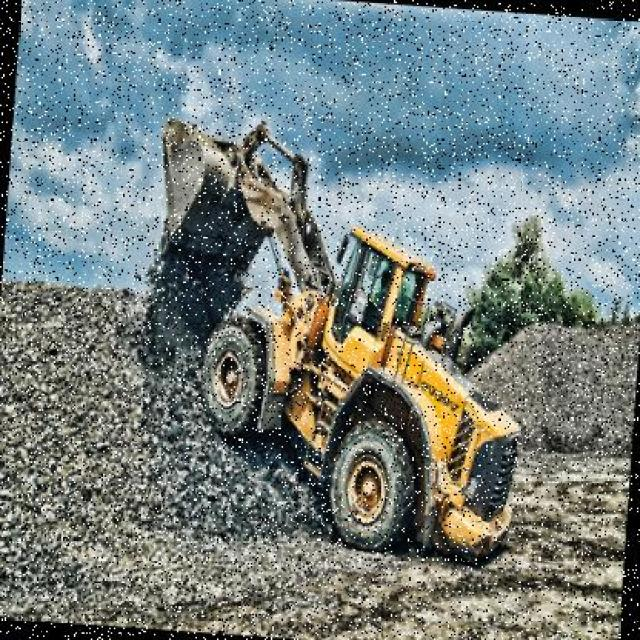buldozerpayloadergrader: (120, 92, 548, 556)
